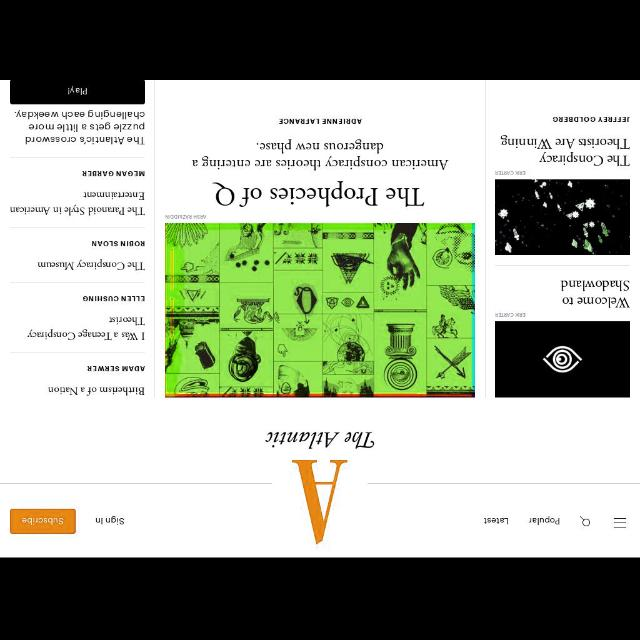icon: (610, 514, 628, 532), (577, 513, 593, 529)
image: (165, 223, 477, 397), (262, 430, 382, 546), (494, 179, 632, 257)
text: (189, 138, 451, 174), (210, 179, 426, 211), (11, 109, 145, 148), (26, 308, 148, 346), (495, 134, 631, 168), (10, 188, 146, 218), (556, 275, 632, 309), (34, 257, 148, 275), (550, 112, 630, 126), (276, 116, 364, 128), (44, 386, 146, 396), (82, 292, 148, 304), (88, 238, 146, 250), (79, 168, 145, 178), (86, 364, 146, 374), (18, 516, 64, 528), (92, 514, 126, 528), (526, 516, 560, 526), (494, 310, 526, 320), (64, 86, 90, 98), (482, 516, 511, 526), (494, 169, 528, 177), (167, 214, 206, 220)
textbutton: (10, 81, 146, 105), (9, 508, 76, 536)
toolbar: (0, 484, 638, 556)
